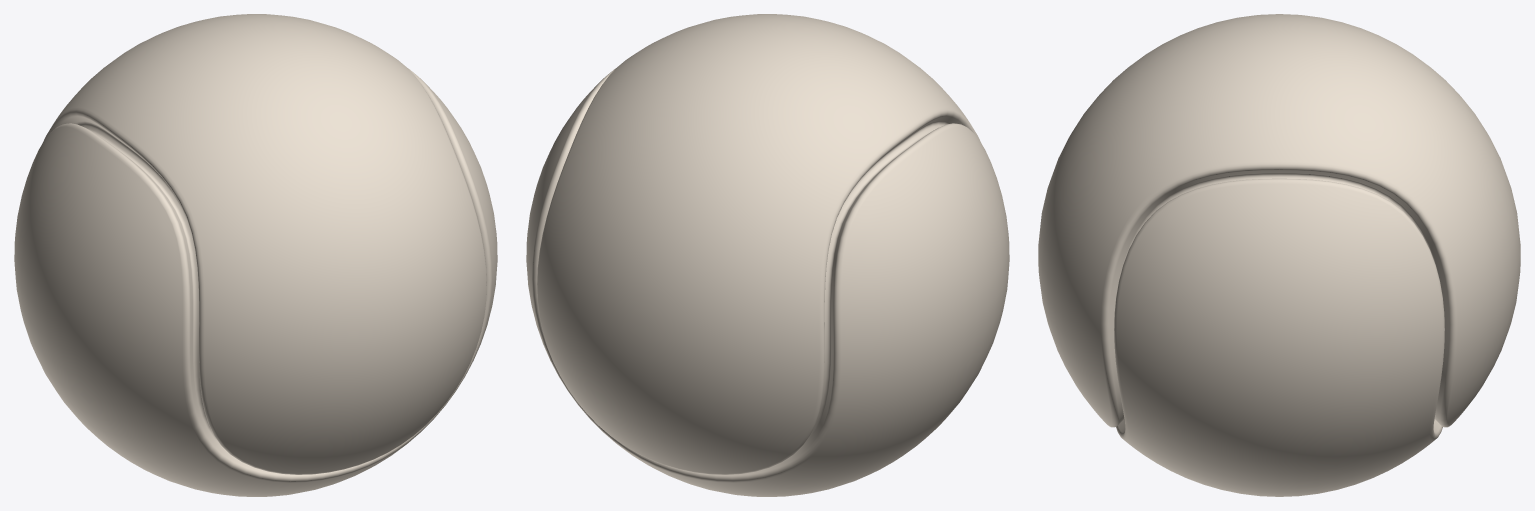
File: RollerBall.fbx
The picture shows the model from 3 angles, left to right: view 1: azimuth 30°, elevation 25°; view 2: azimuth 150°, elevation 25°; view 3: azimuth 270°, elevation 25°; orthographic projection.
Parts seen in each view (by area): view 1: RollerBall; view 2: RollerBall; view 3: RollerBall.
Part boxes in pixels (x1,y1,x2,y2): RollerBall: (14, 14, 497, 496); RollerBall: (526, 14, 1009, 496); RollerBall: (1038, 14, 1520, 496).
Size of the model in its own units: 99.76 by 99.84 by 99.76.
